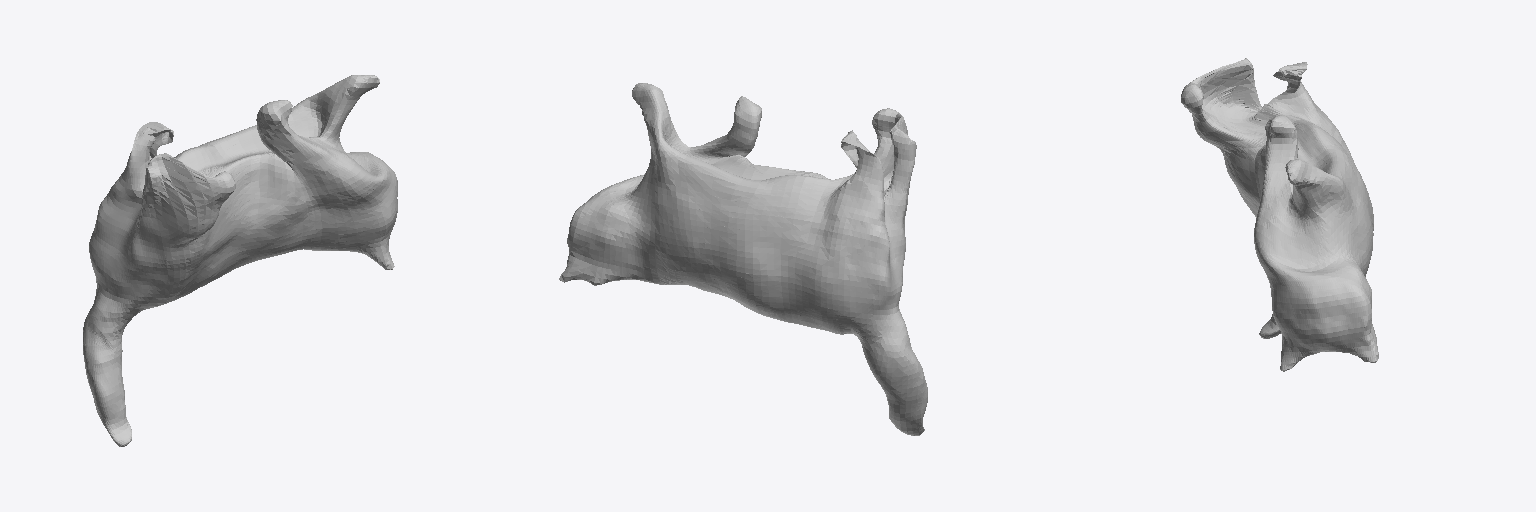
The model's file is fg-00012-geo-color.obj.
3 renders of one model, left to right at view 1: azimuth 30°, elevation 25°; view 2: azimuth 150°, elevation 25°; view 3: azimuth 270°, elevation 25°, orthographic.
Bounding box in the file's own units: 0.2683 × 0.2386 × 0.142.